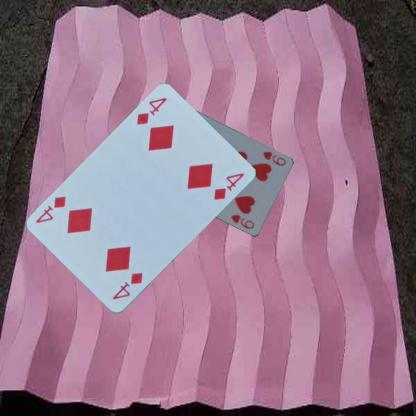4d: (110, 270, 144, 301), (134, 96, 168, 126)
9h: (260, 148, 287, 167)
